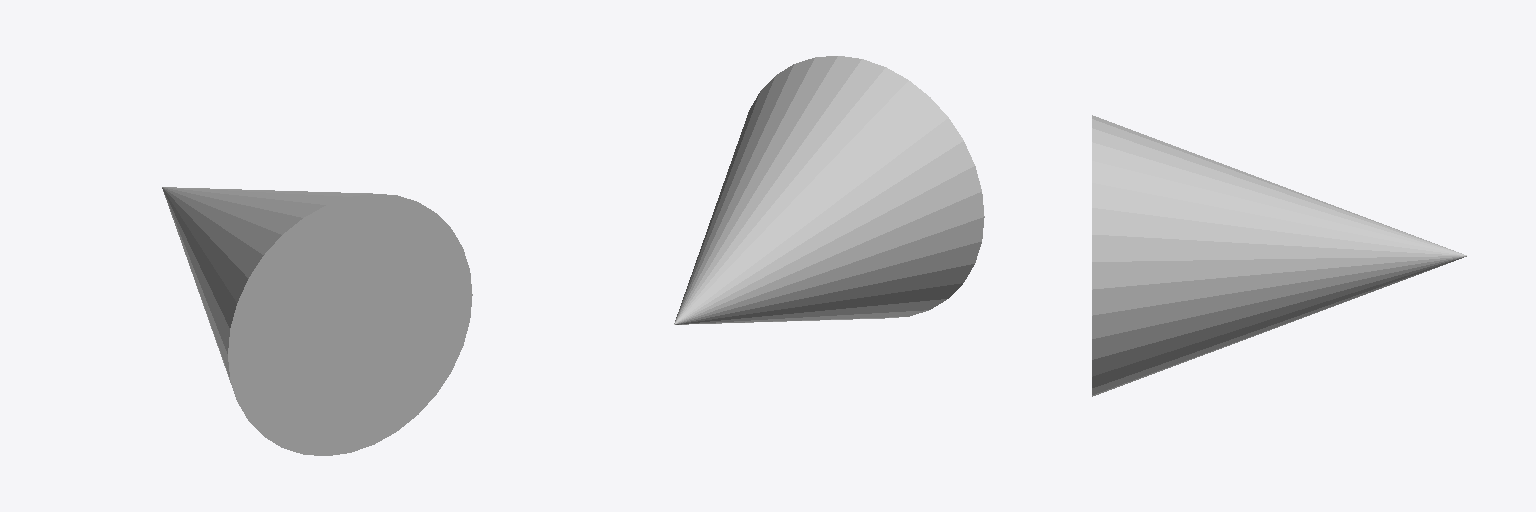
The model's file is cune.obj.
The picture shows the model from 3 angles: view 1: azimuth 30°, elevation 25°; view 2: azimuth 150°, elevation 25°; view 3: azimuth 270°, elevation 25°; orthographic projection.
Visible parts, largest first — view 1: 锥体; view 2: 锥体; view 3: 锥体.
Boxes of the visible parts, <box> form: 锥体: <box>162,187,472,455</box>; 锥体: <box>674,56,984,324</box>; 锥体: <box>1092,115,1466,396</box>.
Size of the model in its own units: 1.5 by 1.5 by 2.